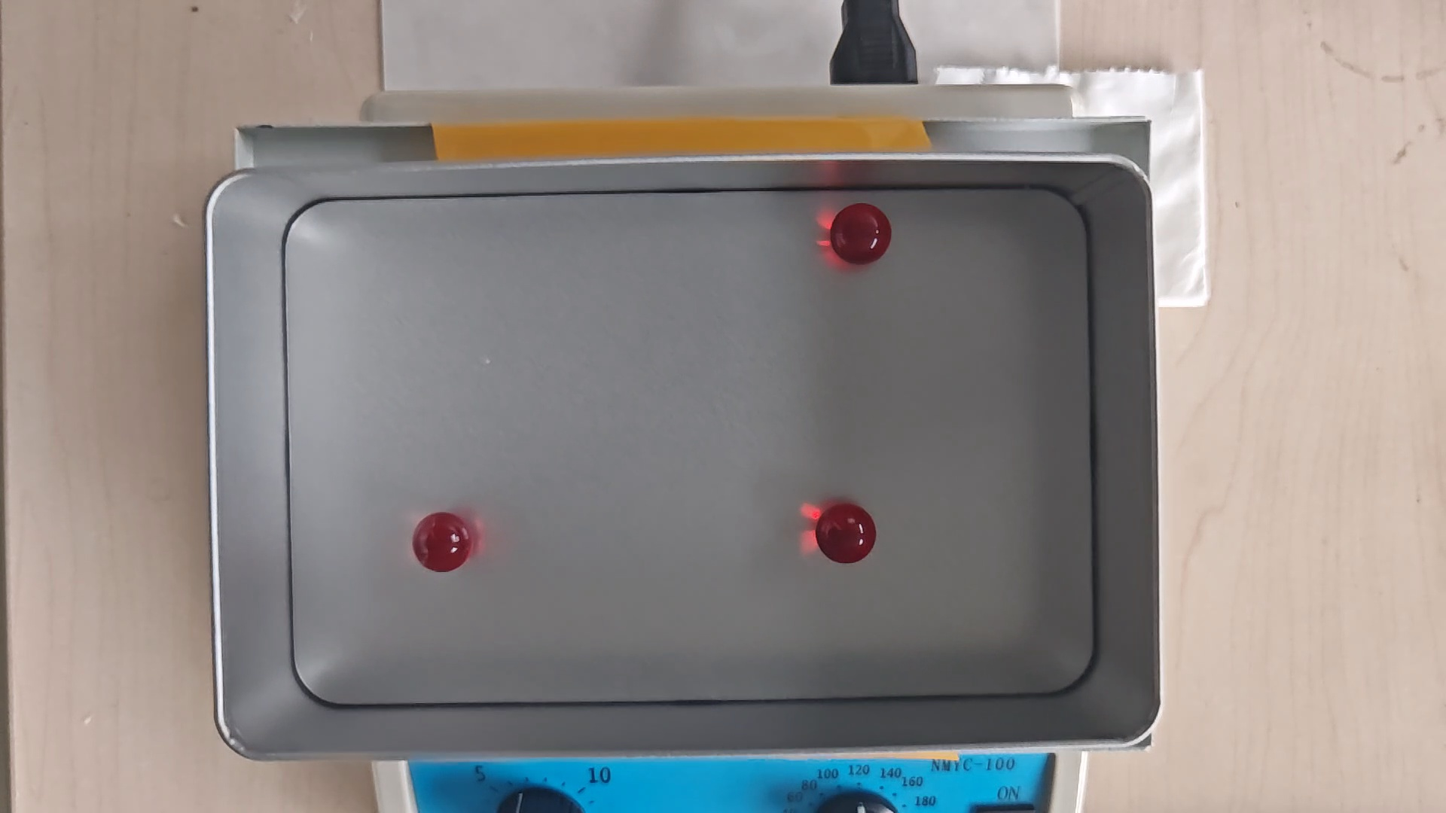ball: (828, 202, 892, 264), (814, 503, 877, 564), (412, 511, 472, 573)
container: (287, 193, 1093, 701)
